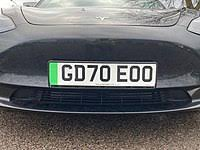number_plate: (46, 59, 162, 91)
